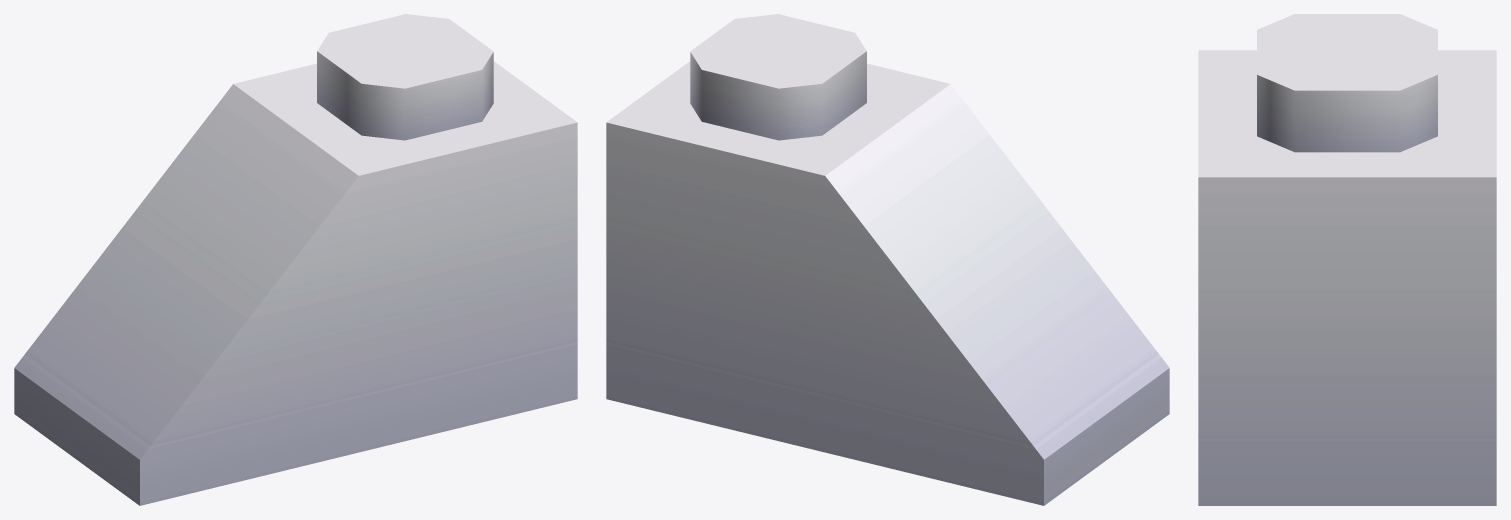
Rendered from bevel-lq-brick-slope-1x2.glb.
The picture shows the model from 3 angles, left to right: view 1: azimuth 30°, elevation 25°; view 2: azimuth 150°, elevation 25°; view 3: azimuth 270°, elevation 25°; orthographic projection. The views are drawn at different scales.
Visible parts, largest first — view 1: bevel-lq-brick-slope-1x2; view 2: bevel-lq-brick-slope-1x2; view 3: bevel-lq-brick-slope-1x2.
Boxes of the visible parts, x1,y1,x2,y2 form: bevel-lq-brick-slope-1x2: (14,14,577,505); bevel-lq-brick-slope-1x2: (606,14,1169,505); bevel-lq-brick-slope-1x2: (1198,14,1496,505).
Size of the model in its own units: 0.159 by 0.114 by 0.079.
Materials: 1 (1 with a texture image).
